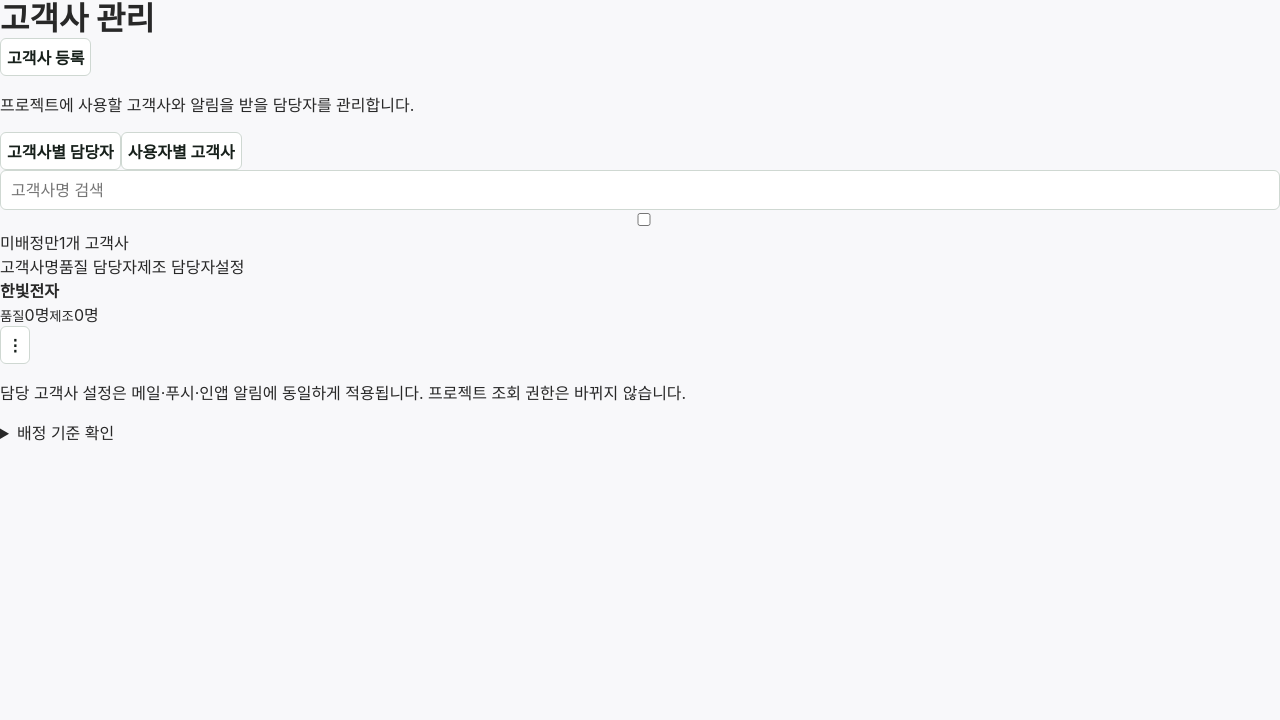
Test: 삭제 실패는 팝업에 남아 재시도할 수 있고 취소는 삭제하지 않는다
Click the button named "한빛전자 더보기" at point(15, 345), box [0, 326, 30, 364]
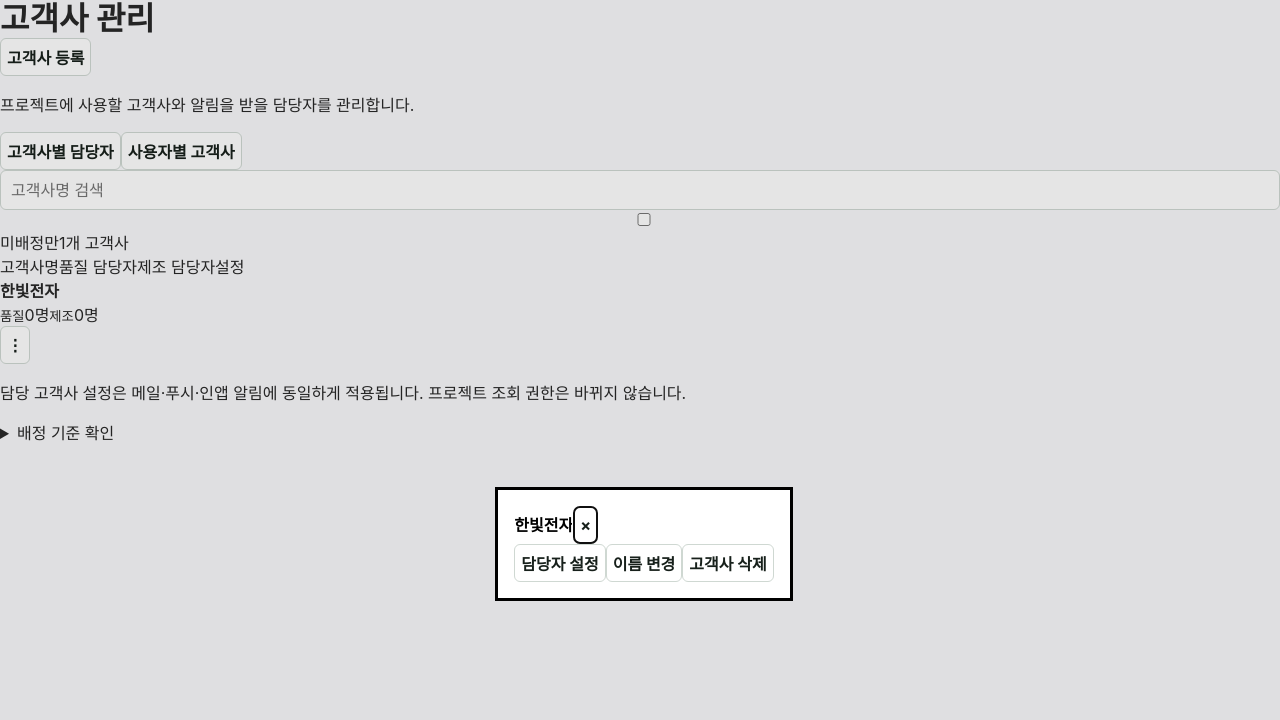
Click the button "고객사 삭제" at point(728, 563), box [682, 544, 774, 582]
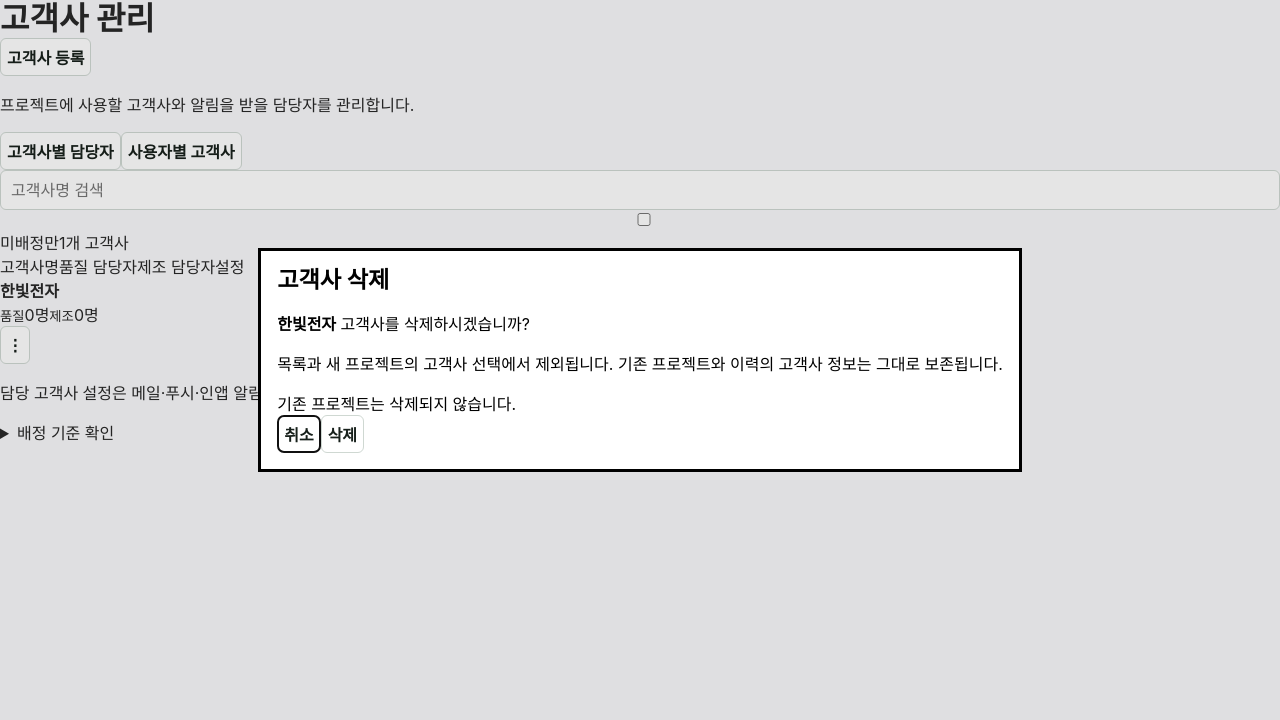
Click the button "삭제" at point(342, 434), box [321, 415, 364, 453]
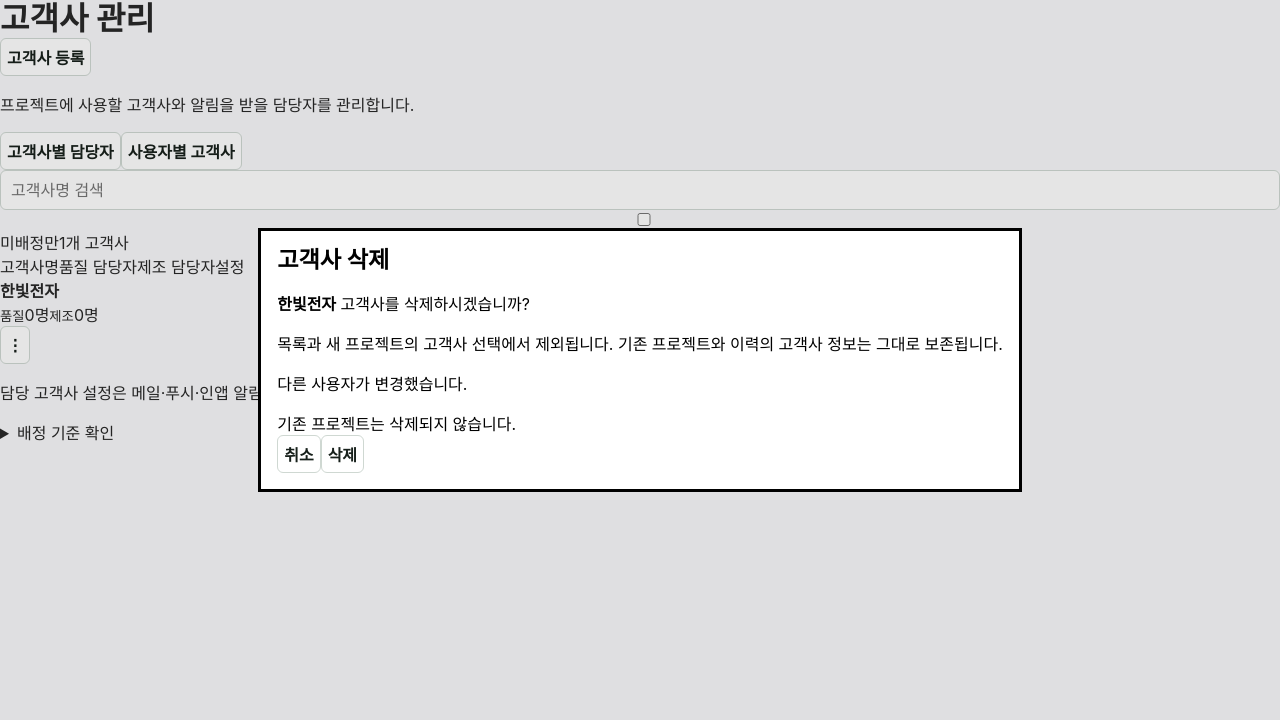
Now the button "삭제" is enabled, box [321, 435, 364, 473]
Now the message reads "다른 사용자가 변경했습니다.", box [277, 374, 468, 394]
Click the button "취소" at point(299, 454), box [277, 435, 321, 473]
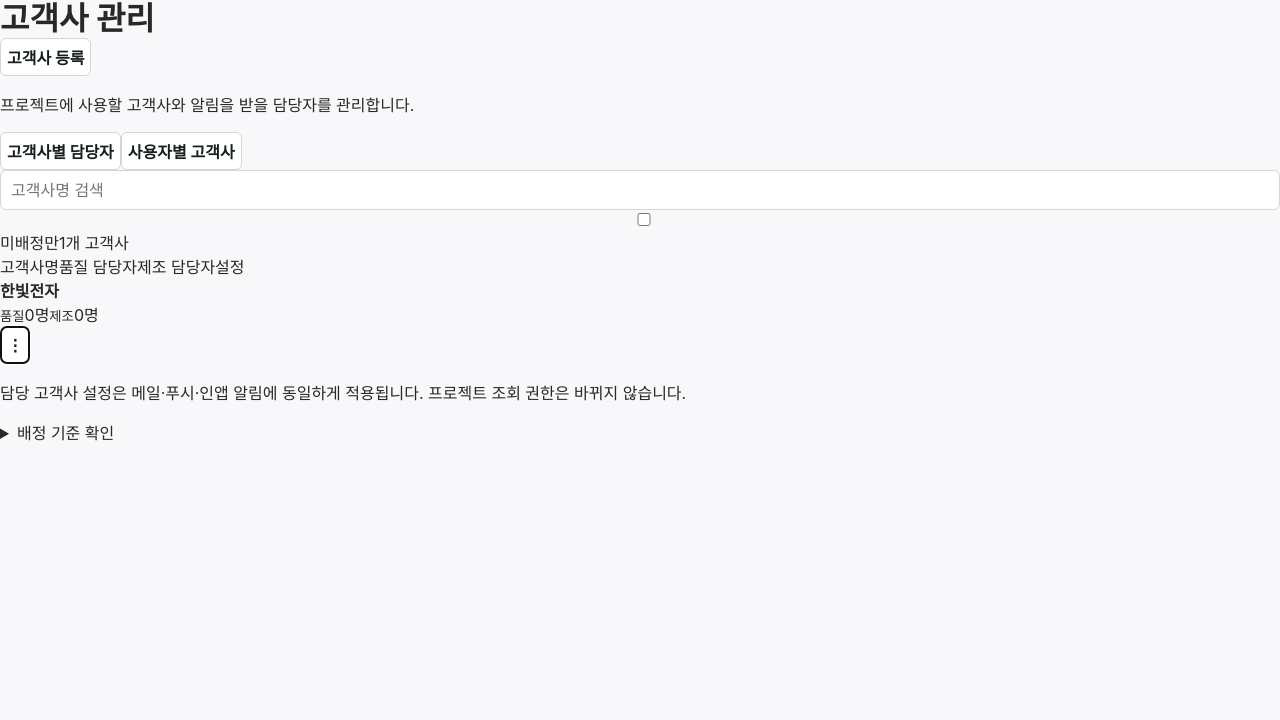
Now the heading "삭제" is gone
